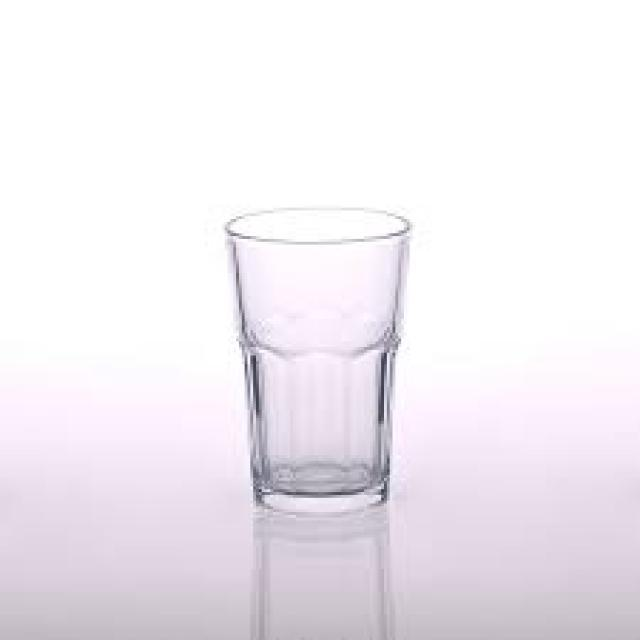Glass: (224, 207, 412, 518)
